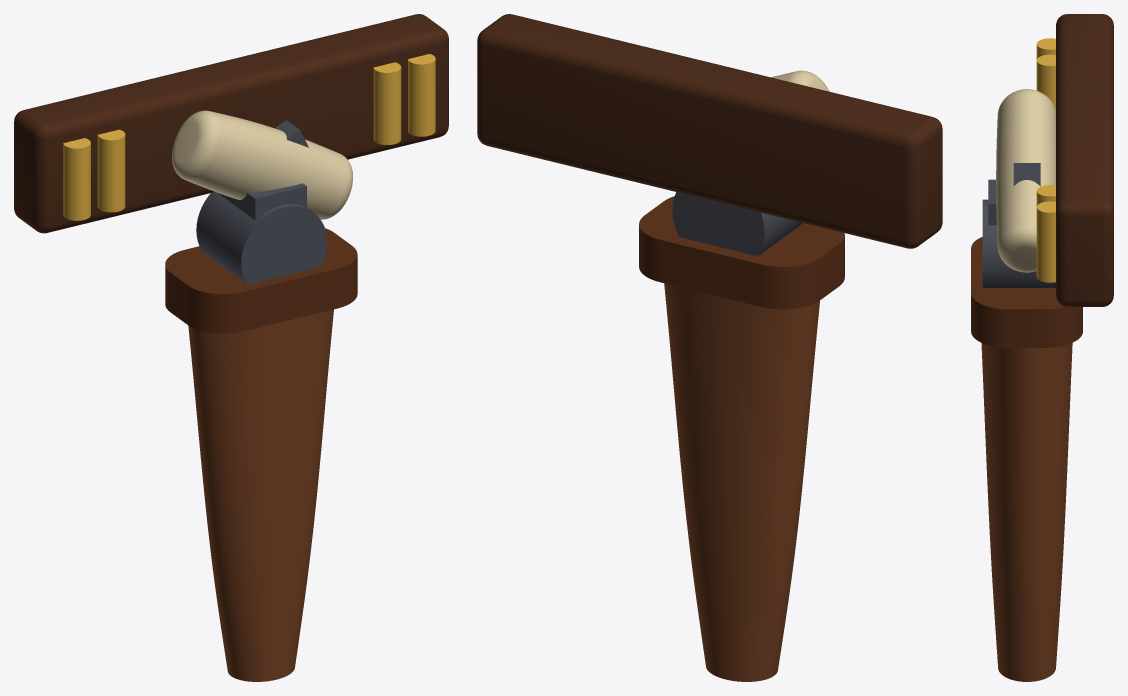
Rendered from holster.glb.
The picture shows the model from 3 angles, left to right: view 1: azimuth 30°, elevation 25°; view 2: azimuth 150°, elevation 25°; view 3: azimuth 270°, elevation 25°; orthographic projection. The views are drawn at different scales.
Visible parts, largest first — view 1: Pouch, Belt, Grip, Lip, Drum, Shell_1, Shell_2, Shell_0, Shell_3, Frame; view 2: Belt, Pouch, Lip, Drum; view 3: Pouch, Belt, Grip, Lip, Drum, Shell_3, Shell_1, Hammer, Frame, Shell_0, Shell_2.
Boxes of the visible parts, <box> form: Pouch: <box>188,309,333,681</box>; Belt: <box>14,14,448,233</box>; Grip: <box>172,110,352,219</box>; Lip: <box>165,228,357,333</box>; Drum: <box>196,192,327,284</box>; Shell_1: <box>97,129,125,212</box>; Shell_2: <box>373,62,401,144</box>; Shell_0: <box>63,138,90,220</box>; Shell_3: <box>408,54,435,136</box>; Frame: <box>217,183,306,220</box>; Belt: <box>477,14,942,248</box>; Pouch: <box>664,283,819,681</box>; Lip: <box>639,196,844,309</box>; Drum: <box>672,192,802,256</box>; Pouch: <box>981,343,1072,681</box>; Belt: <box>1056,14,1113,306</box>; Grip: <box>996,89,1055,272</box>; Lip: <box>971,237,1082,347</box>; Drum: <box>982,199,1055,287</box>; Shell_3: <box>1036,201,1055,282</box>; Shell_1: <box>1036,54,1055,110</box>; Hammer: <box>1013,163,1040,186</box>; Frame: <box>988,179,996,225</box>; Shell_0: <box>1036,38,1055,59</box>; Shell_2: <box>1036,185,1055,206</box>.
Bounding box in the file's own units: 0.24 × 0.32 × 0.074.
